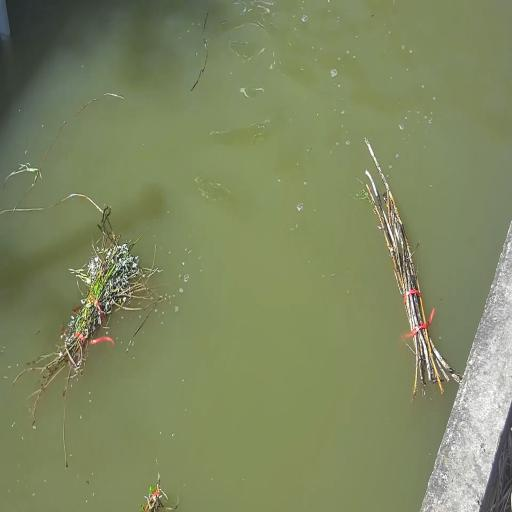twig: (353, 134, 453, 398), (41, 218, 145, 382), (136, 473, 180, 512)
